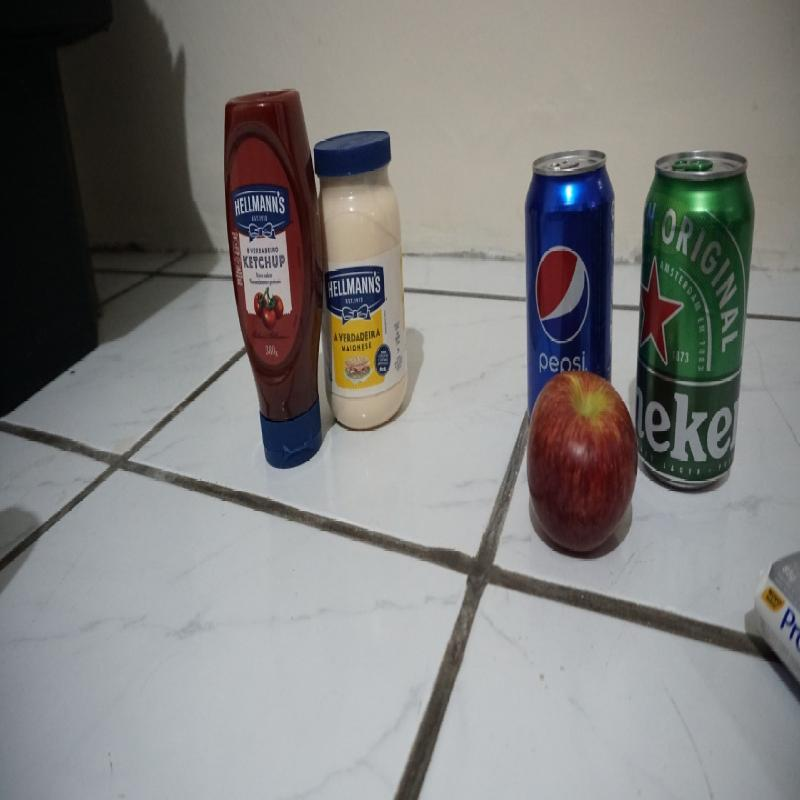Apple: (527, 369, 638, 552)
Beer can: (634, 149, 756, 492)
Ketchup: (224, 88, 323, 469)
Mayonnaise: (313, 126, 409, 432)
Soda can: (525, 149, 614, 440)
